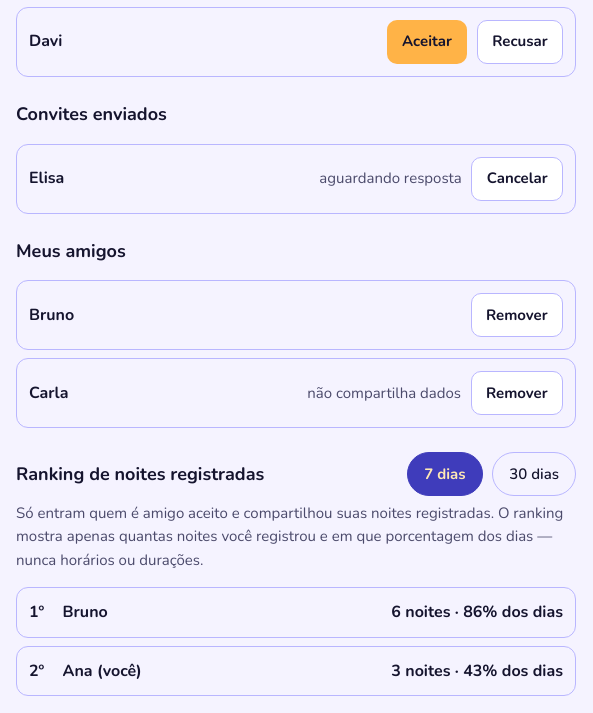
tela de Amigos › troca o período do ranking para 30 dias
The width and height of the screenshot is (593, 713).
(page scrolled)
What coordinates should you click on to do the following:
click the button "30 dias"
I would click on:
 (534, 474)
Its box is [492, 452, 576, 496].
(page scrolled)
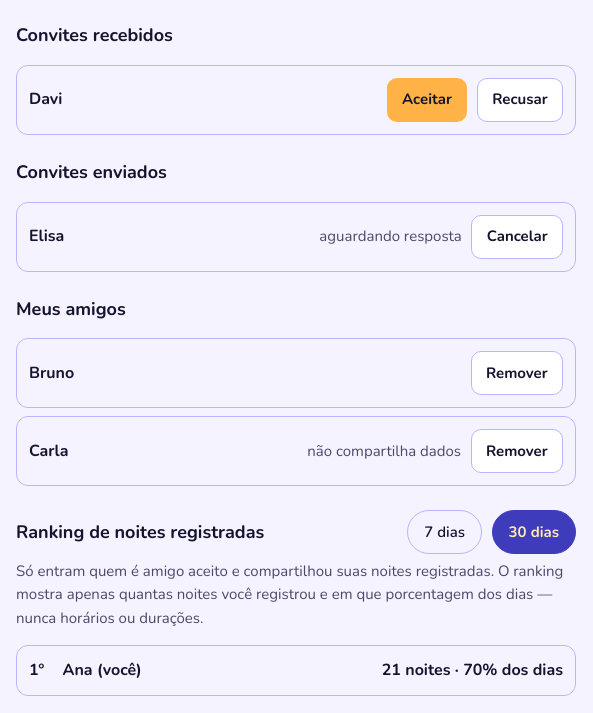
expect the text "21 noites · 70% dos dias" is shown: met, box [382, 658, 563, 683]
